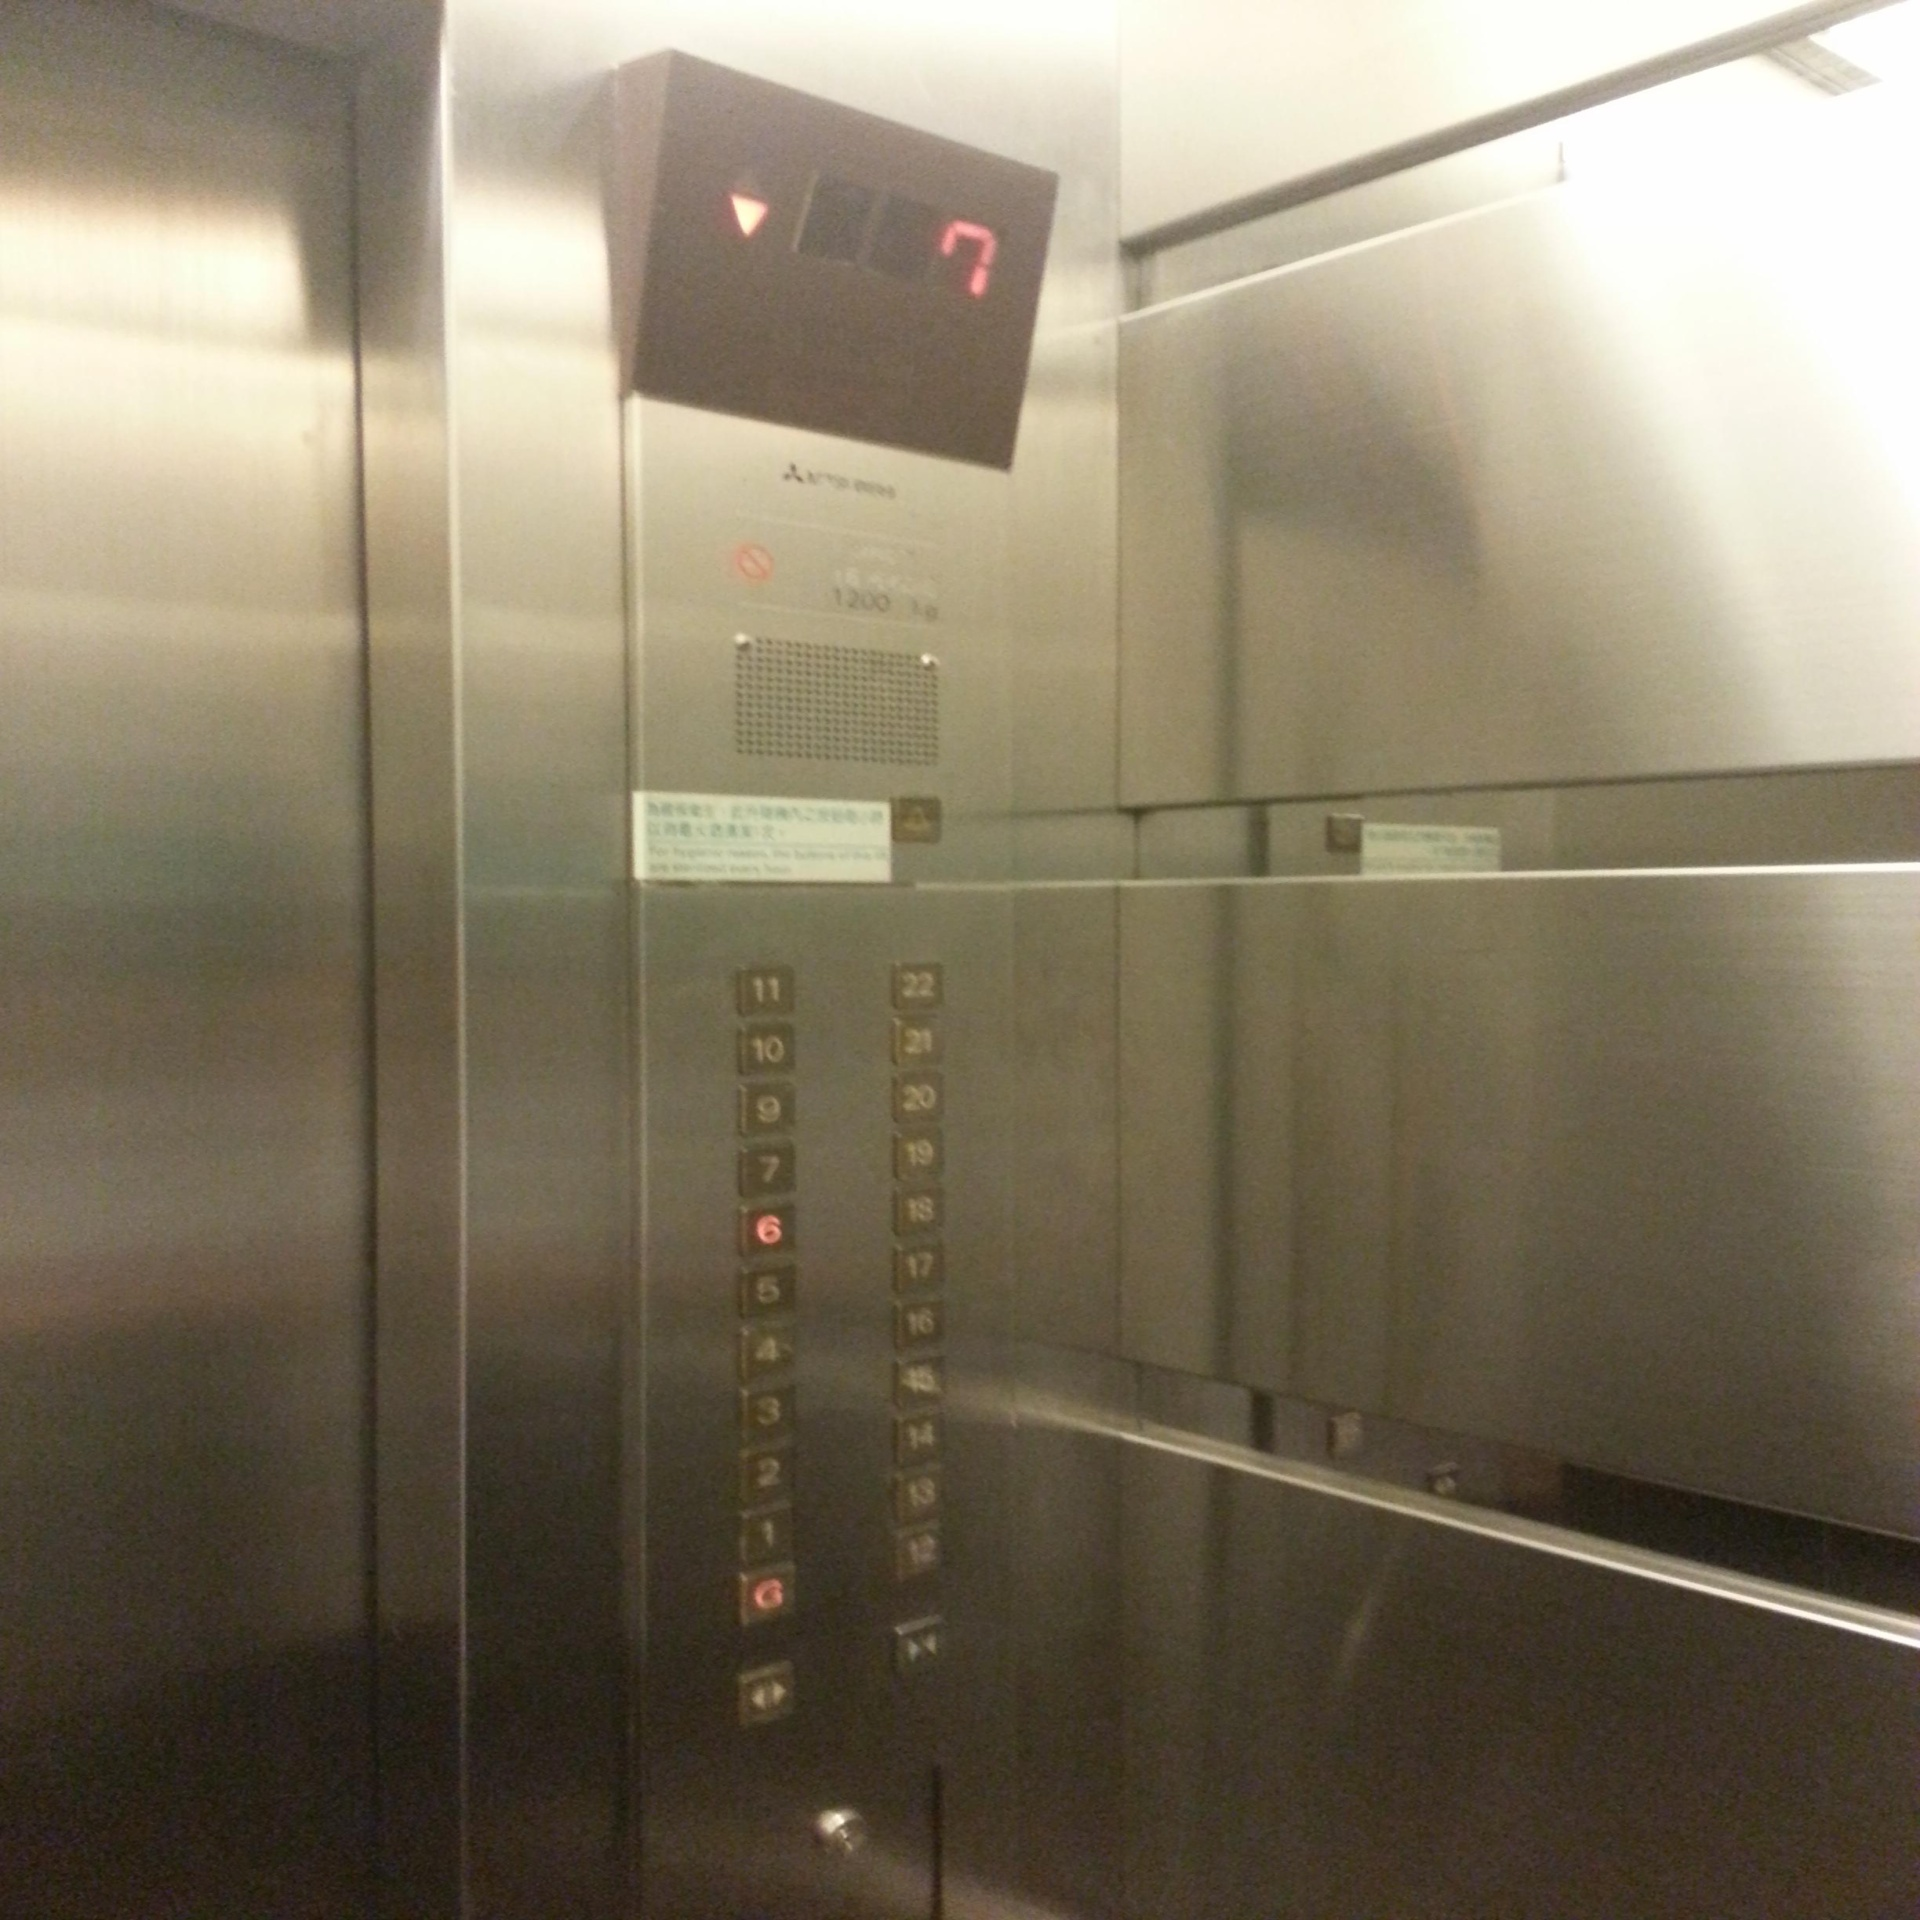1: (740, 1502, 796, 1563)
10: (738, 1022, 798, 1074)
11: (737, 964, 796, 1015)
12: (891, 1521, 948, 1584)
13: (893, 1463, 951, 1524)
14: (891, 1408, 949, 1465)
15: (891, 1354, 949, 1408)
16: (891, 1296, 949, 1352)
17: (891, 1240, 949, 1294)
18: (891, 1183, 949, 1238)
19: (891, 1125, 948, 1183)
2: (740, 1444, 802, 1502)
20: (891, 1067, 948, 1125)
21: (891, 1013, 948, 1067)
22: (891, 958, 946, 1011)
3: (740, 1382, 802, 1438)
4: (740, 1320, 798, 1378)
5: (738, 1262, 798, 1319)
6: (738, 1203, 798, 1257)
7: (738, 1143, 798, 1197)
9: (738, 1080, 798, 1138)
G: (733, 1560, 800, 1625)
alarm: (890, 793, 942, 842)
blur: (811, 1804, 872, 1865)
close: (893, 1616, 948, 1674)
open: (738, 1660, 798, 1728)
